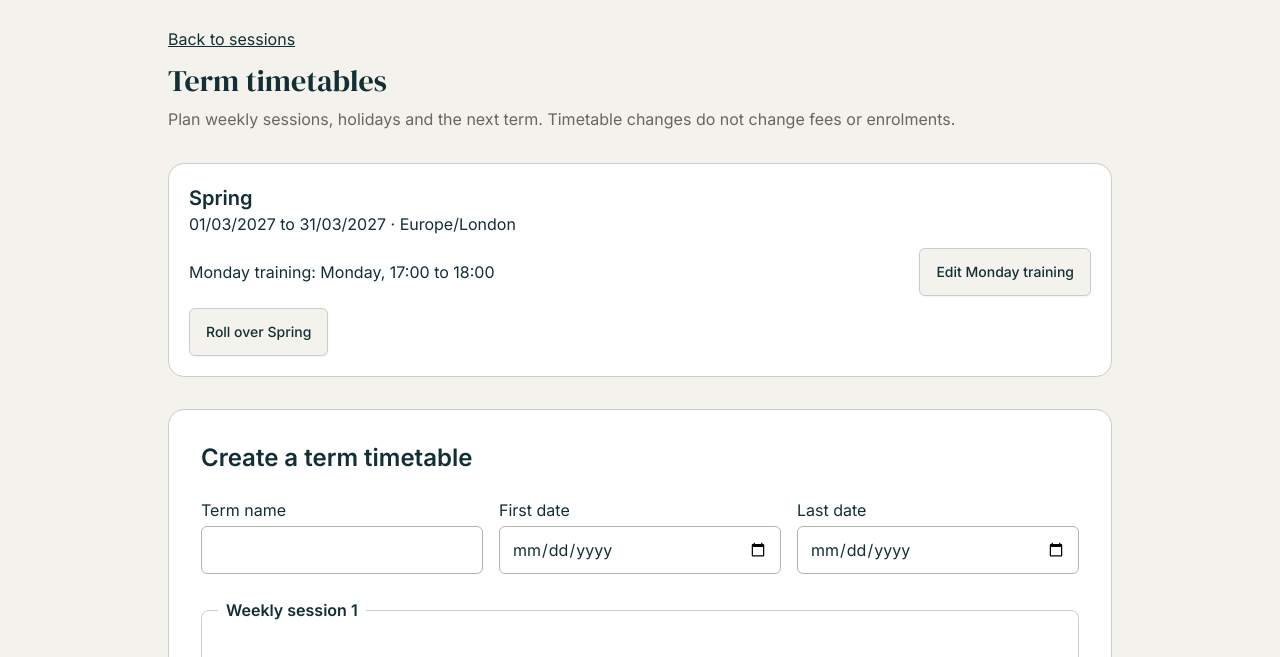
Scenario: blocks confirmation when the capacity preview is over full
Click the button "Roll over Spring" at {"x": 259, "y": 332}, box [189,308,328,356]
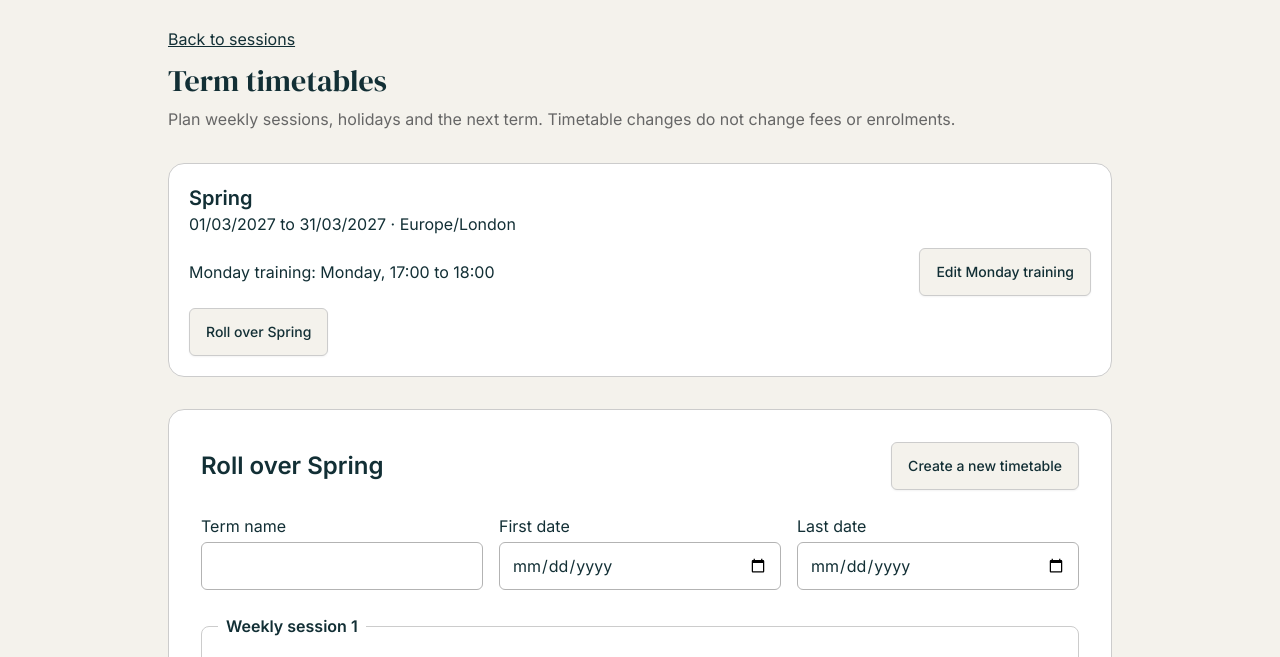
Type "Summer" into the field labelled "Term name" at {"x": 342, "y": 566}, box [201,542,483,590]
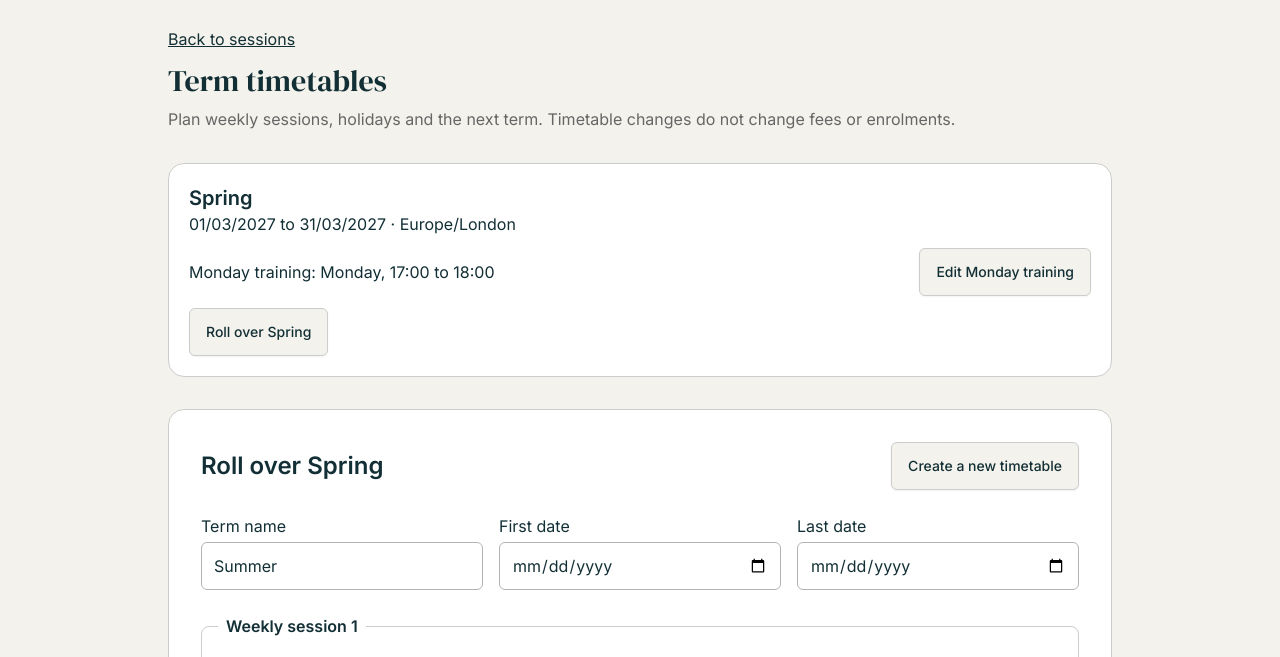
Type "2027-04-01" into the date field labelled "First date" at {"x": 640, "y": 566}, box [499,542,781,590]
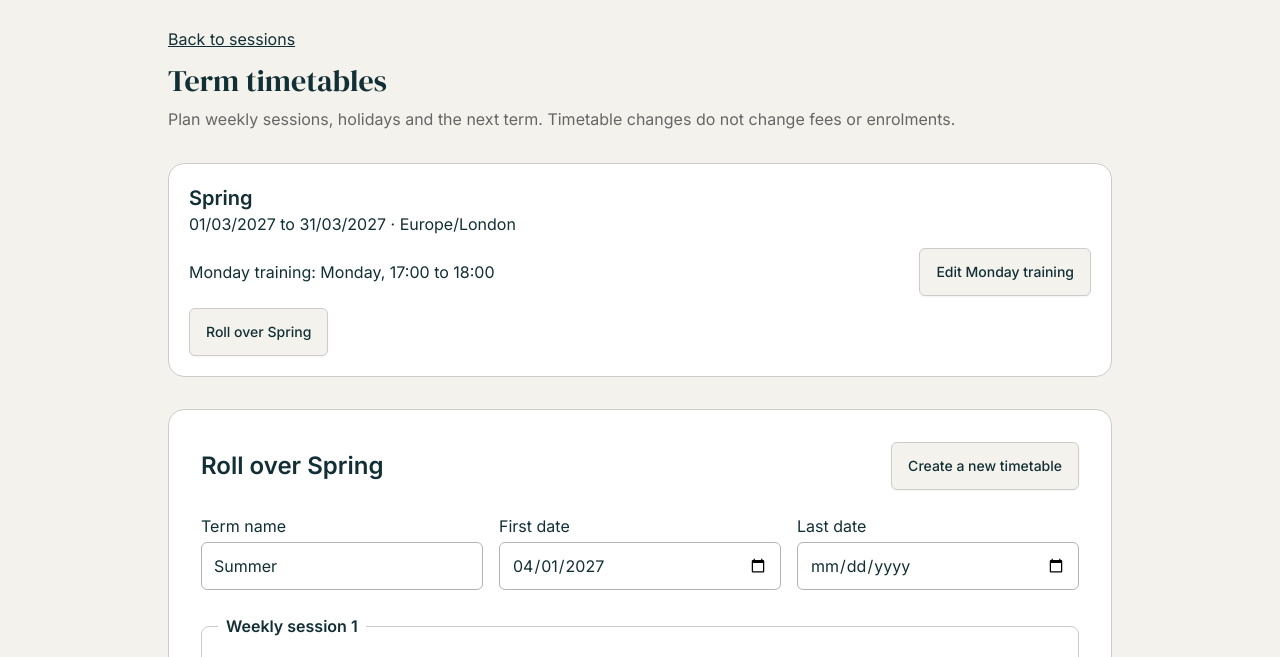
Type "2027-04-30" into the date field labelled "Last date" at {"x": 938, "y": 566}, box [797,542,1079,590]
(page scrolled)
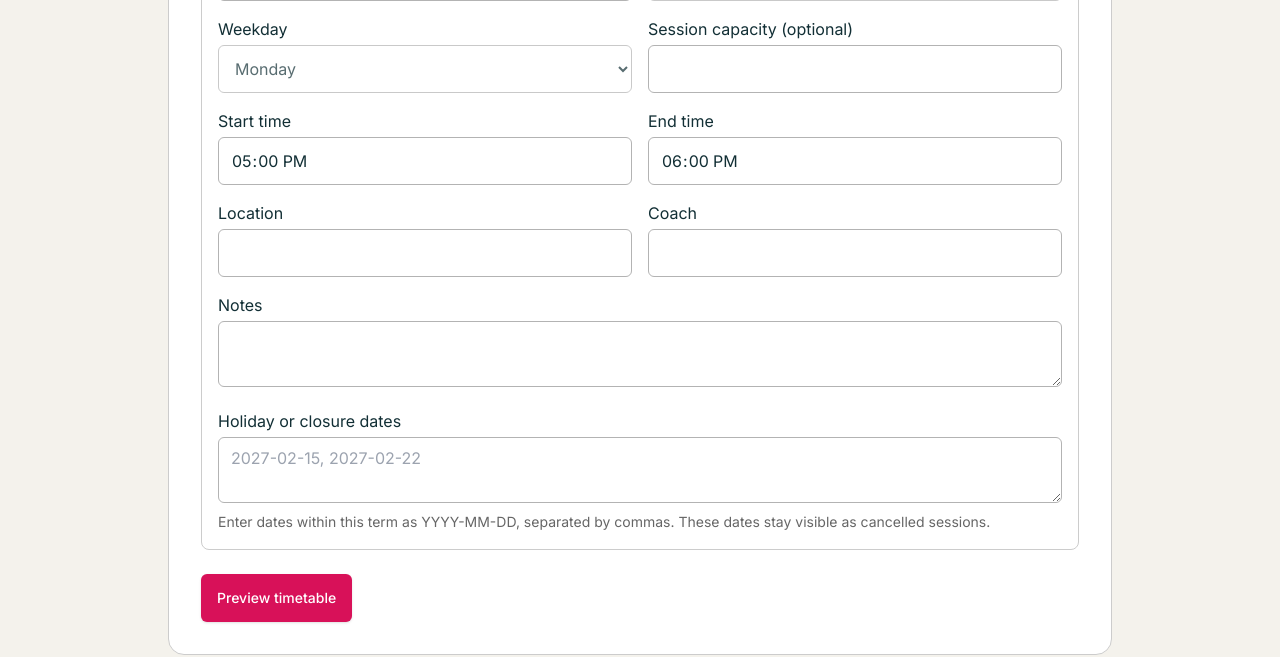
Click the button "Preview timetable" at {"x": 277, "y": 598}, box [201,574,352,622]
(page scrolled)
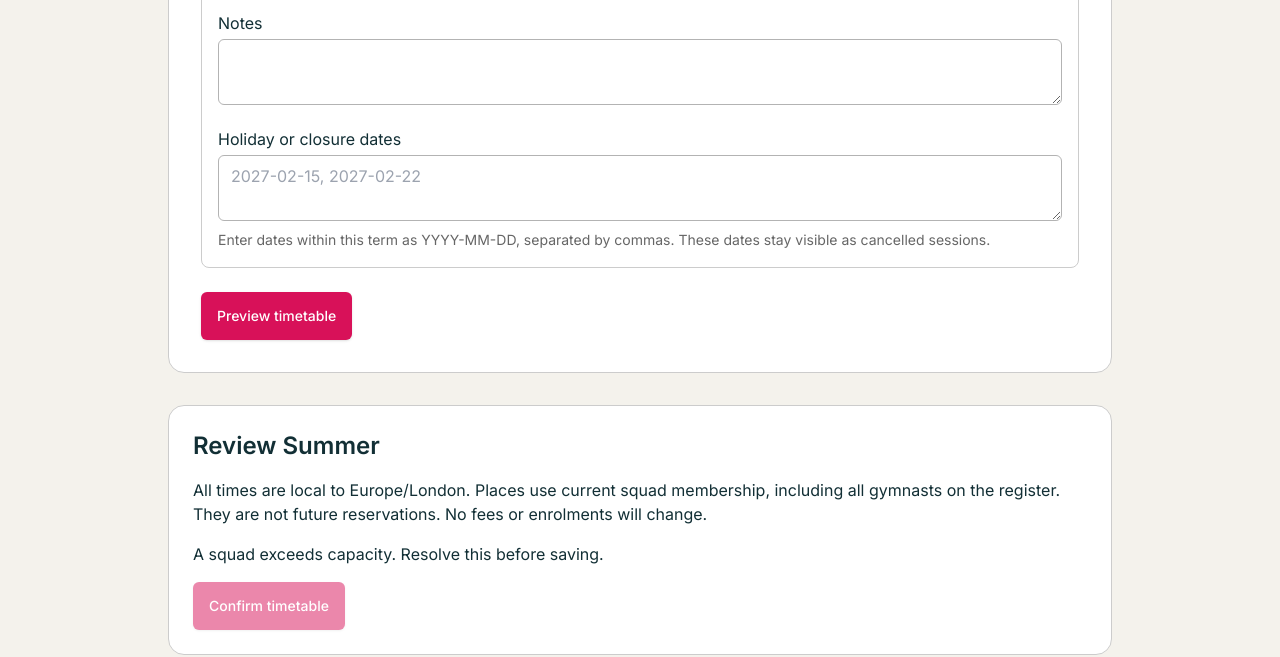
Check: the button "Confirm timetable" is disabled, box [193,582,345,630]
